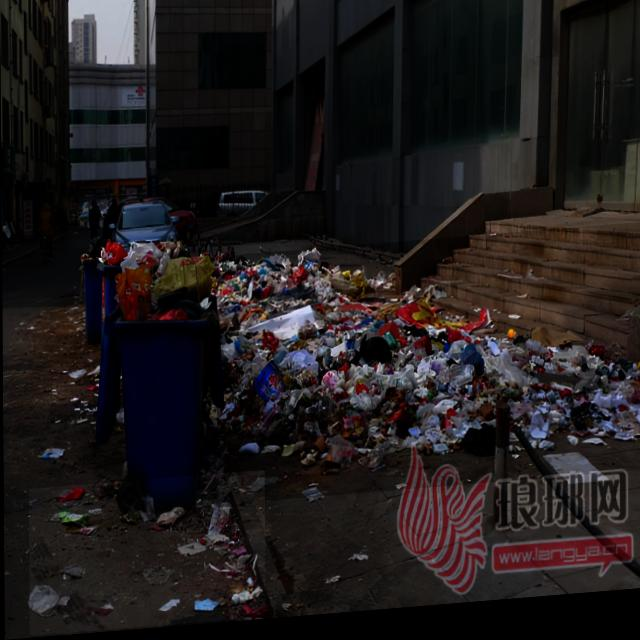garbage: (203, 233, 640, 509), (28, 474, 265, 637)
overflow: (91, 235, 218, 518)
